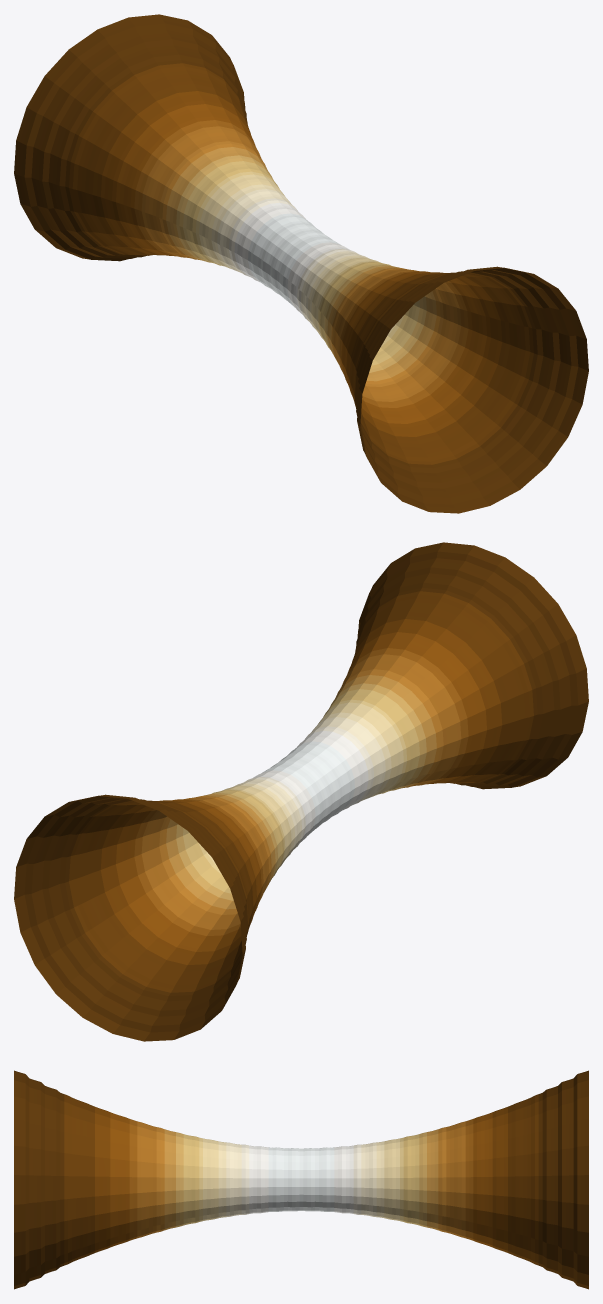
File: pathway.obj
The picture shows the model from 3 angles, top to bottom: view 1: azimuth 30°, elevation 25°; view 2: azimuth 150°, elevation 25°; view 3: azimuth 270°, elevation 25°; orthographic projection. The views are drawn at different scales.
Size of the model in its own units: 15.25 by 15.22 by 40.
